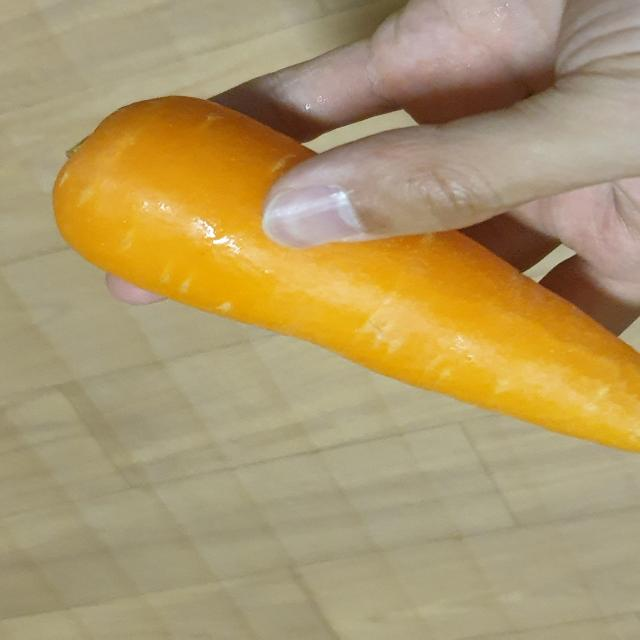carrot: (39, 80, 640, 460)
